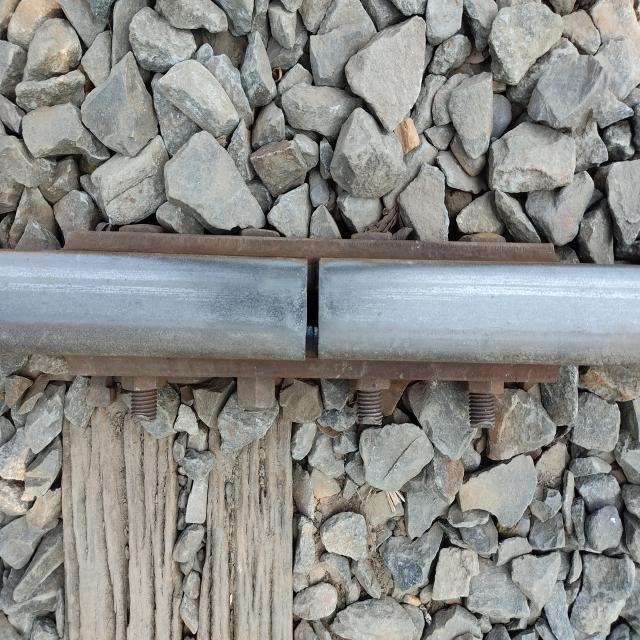Good Joint: (60, 201, 577, 458)
